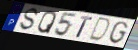5: (53, 11, 79, 37)
D: (87, 17, 112, 43)
G: (107, 21, 129, 45)
Q: (37, 10, 58, 35)
S: (18, 7, 41, 32)
T: (75, 15, 93, 39)
